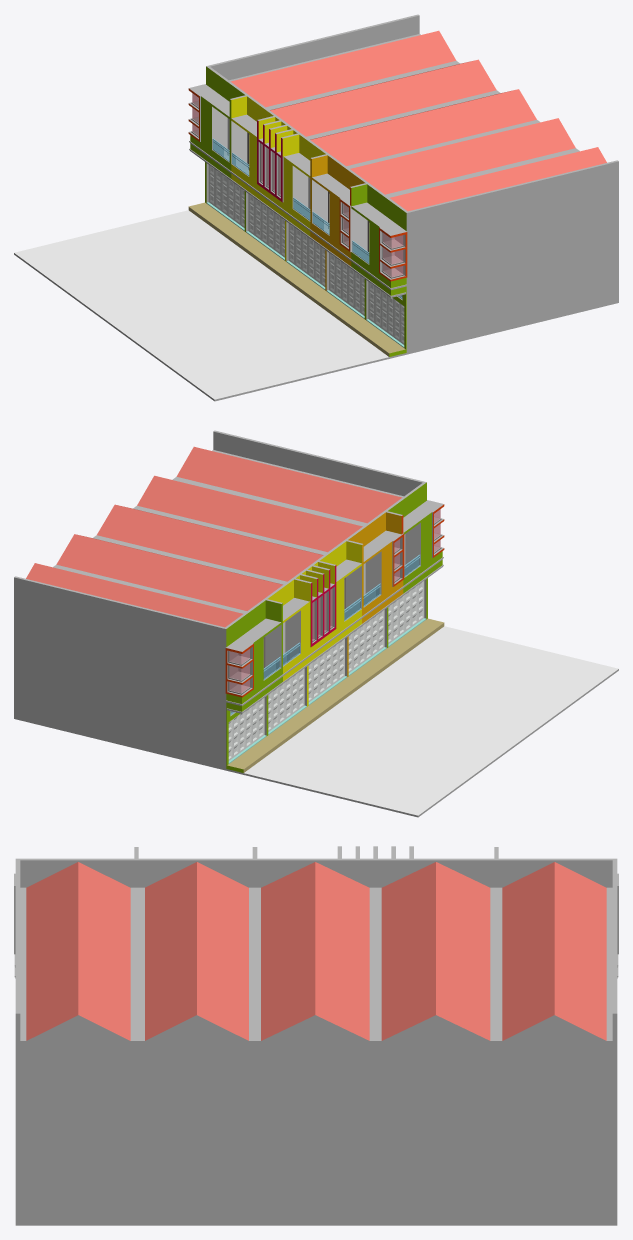
Rendered from gedung1.glb.
3 renders of one model, top to bottom at view 1: azimuth 30°, elevation 25°; view 2: azimuth 150°, elevation 25°; view 3: azimuth 270°, elevation 25°, orthographic. The views are drawn at different scales.
Parts seen in each view (by area): view 1: Material3 (×20), Material2 (×2); view 2: Material3 (×20), Material2 (×3); view 3: Material2, Material3 (×5).
Boxes of the visible parts, x1,y1,x2,y2 form: Material3 (×20): (14,30,606,399); Material2 (×2): (14,14,618,401); Material3 (×20): (26,446,618,815); Material2 (×3): (14,430,618,817); Material2: (14,846,618,1225); Material3 (×5): (26,862,606,1040).
Bounding box in the file's own units: 912 × 305 × 789.
